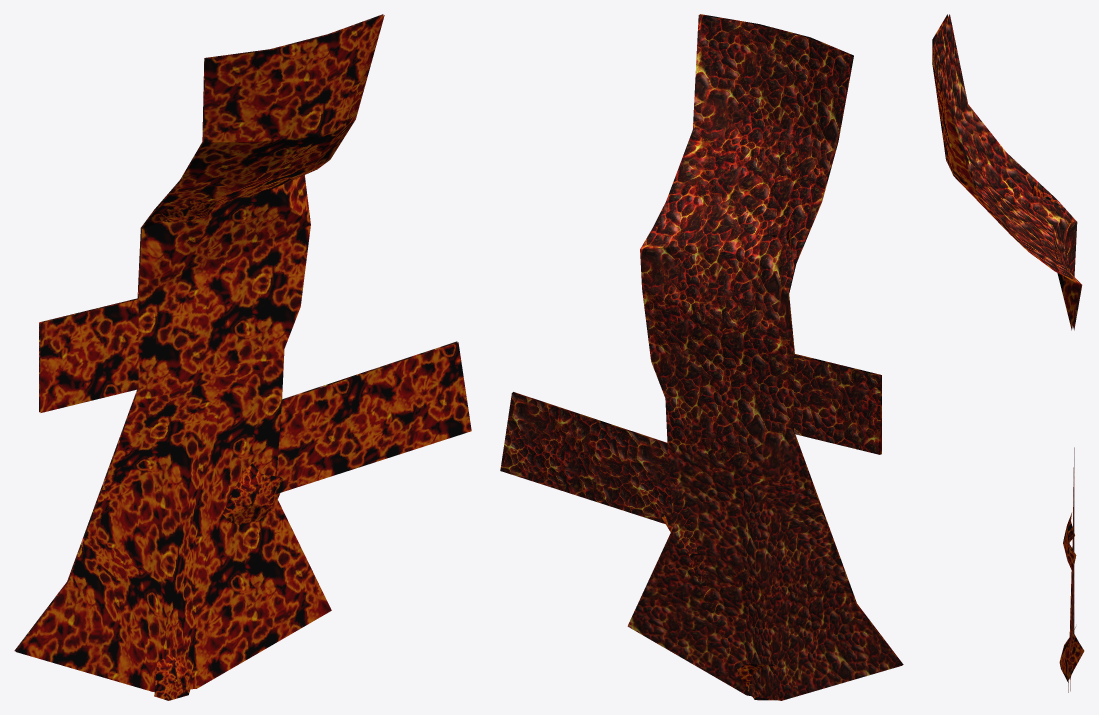
Rendered from tx_aiji_dongxue_225_rongyan.obj.
3 views of the same model, side by side, from view 1: azimuth 30°, elevation 25°; view 2: azimuth 150°, elevation 25°; view 3: azimuth 270°, elevation 25° (orthographic). The views are drawn at different scales.
Visible parts, largest first — view 1: shangmian#3, Object03, xiamian#2, Object02, Object01; view 2: xiamian#2, shangmian#3; view 3: xiamian#2, shangmian#3, Object02, Object03.
Boxes of the visible parts, <box> form: shangmian#3: <box>16,15,471,691</box>; Object03: <box>223,463,282,524</box>; xiamian#2: <box>14,14,457,651</box>; Object02: <box>154,655,190,700</box>; Object01: <box>159,200,218,222</box>; xiamian#2: <box>500,15,902,700</box>; shangmian#3: <box>513,14,903,664</box>; xiamian#2: <box>934,14,1082,691</box>; shangmian#3: <box>932,14,1079,692</box>; Object02: <box>1059,627,1084,681</box>; Object03: <box>1063,513,1076,574</box>.
Bounding box in the file's own units: 2126 × 3106 × 660.
2 materials, 2 textured.
